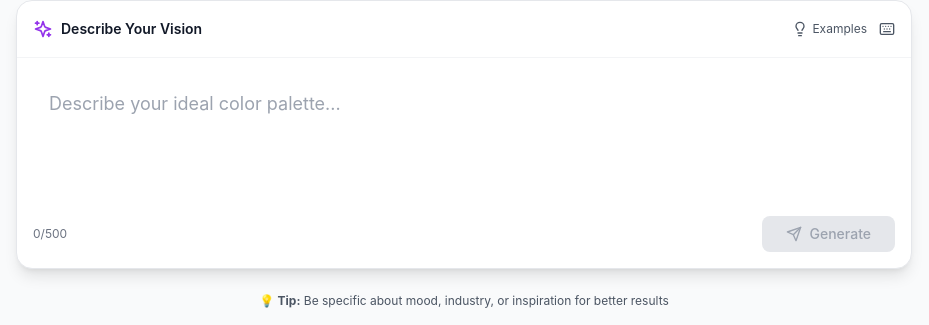
Test: PromptInput › Input Validation › should enable submit button for valid input
Type "This is a valid prompt with enough characters" into the text box with placeholder "Describe your ideal color palette..." at (464, 134), box [33,74,895,194]
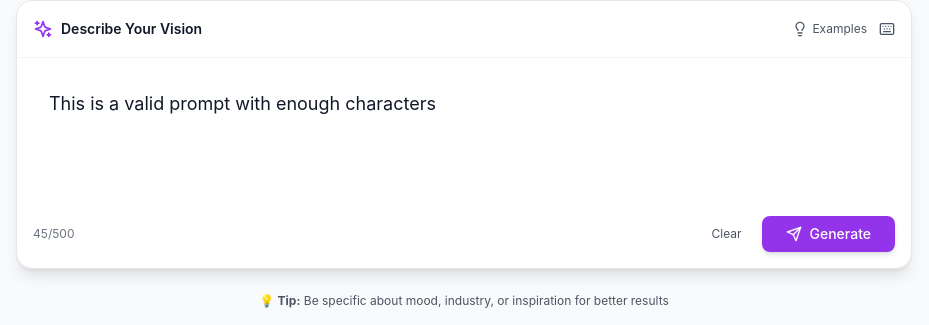
Result: the button "Generate" is enabled at [762,216,895,252]
